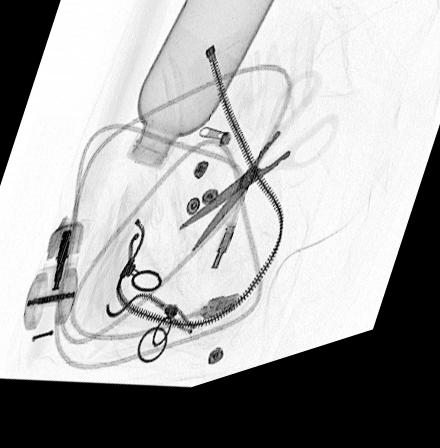Scissors: (172, 83, 340, 264)
